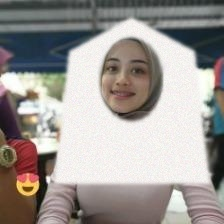Mukena: (54, 17, 209, 183)
